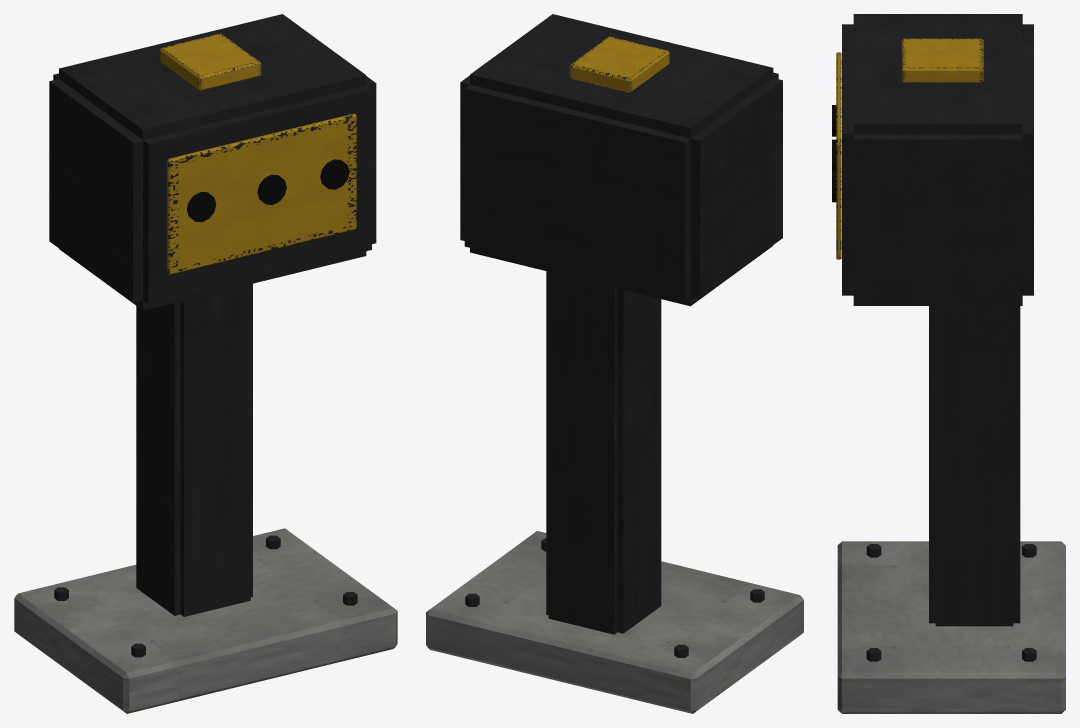
File: RailControl.fbx
The picture shows the model from 3 angles, left to right: view 1: azimuth 30°, elevation 25°; view 2: azimuth 150°, elevation 25°; view 3: azimuth 270°, elevation 25°; orthographic projection. The views are drawn at different scales.
Visible parts, largest first — view 1: RailControl.001; view 2: RailControl.001; view 3: RailControl.001.
Boxes of the visible parts, x1=… form: RailControl.001: x1=14, y1=14, x2=397, y2=713; RailControl.001: x1=426, y1=14, x2=803, y2=713; RailControl.001: x1=832, y1=14, x2=1065, y2=713.
Bounding box in the file's own units: 0.7 × 1.44 × 0.512.
